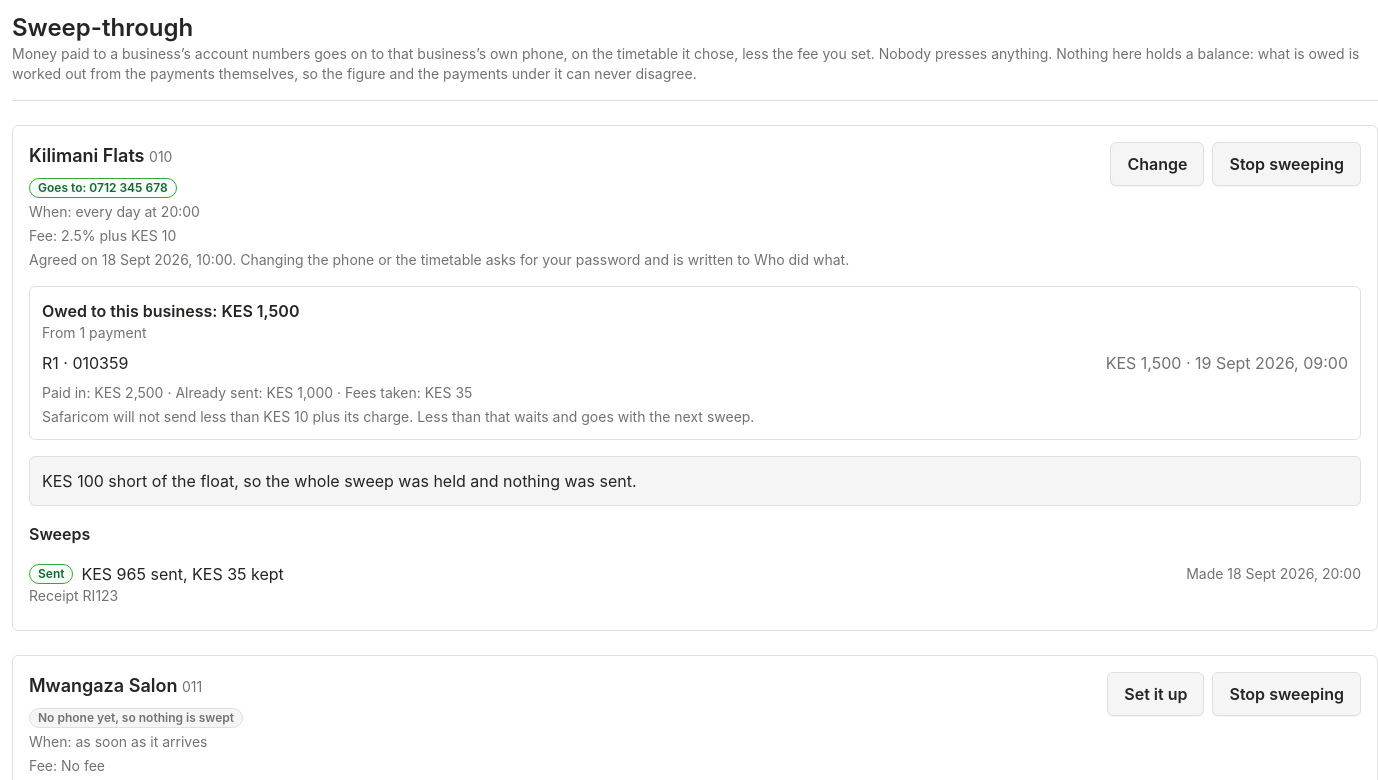
it: Sweep-through › stops with one press, and the money stays owed and visible
Check: the heading "Kilimani Flats 010" is shown, box [29,145,172,166]
Click the button "Stop sweeping" in the row of "0712 345 678" at (1287, 164), box [1212,142,1361,186]
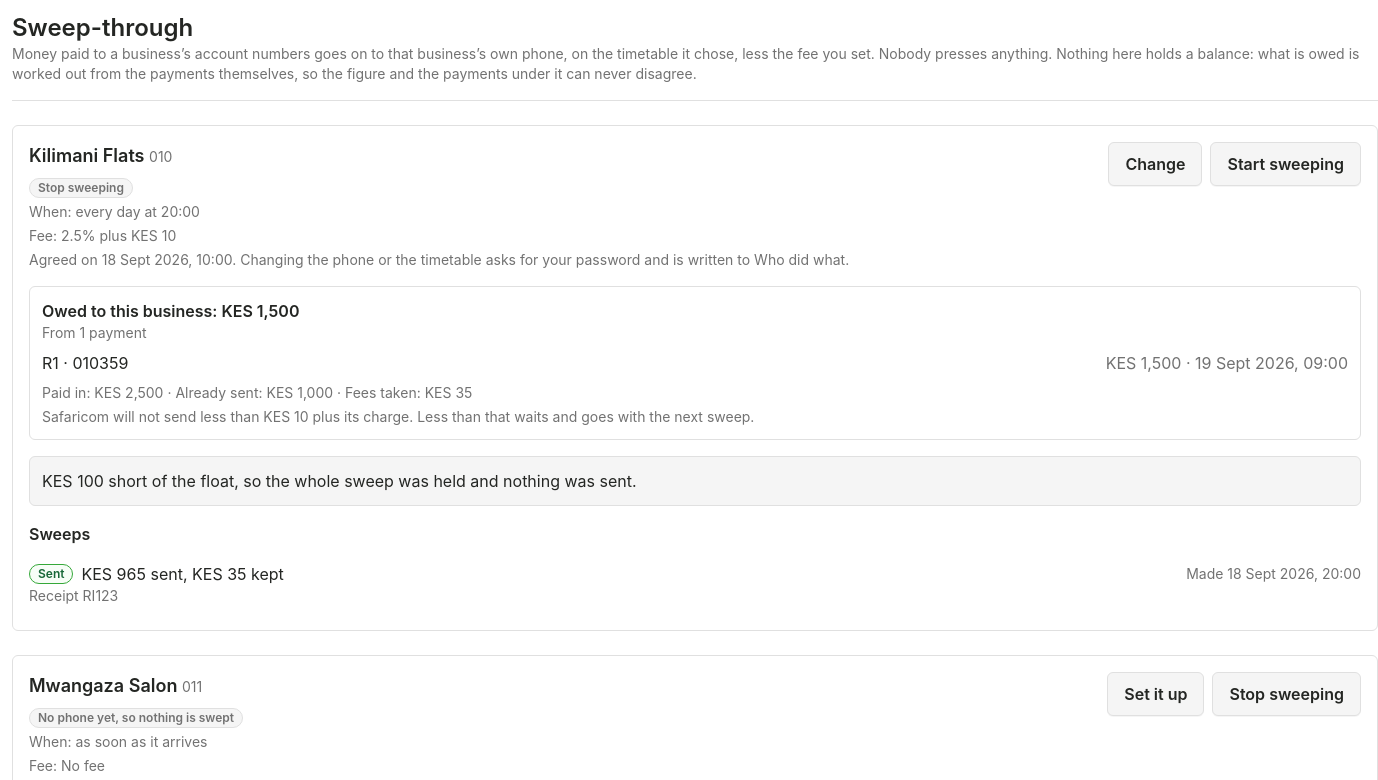
Check: the element with test id "owed-b1" shows "R1", box [42,353,59,373]
Check: the button "Start sweeping" is shown, box [1210,142,1361,186]
